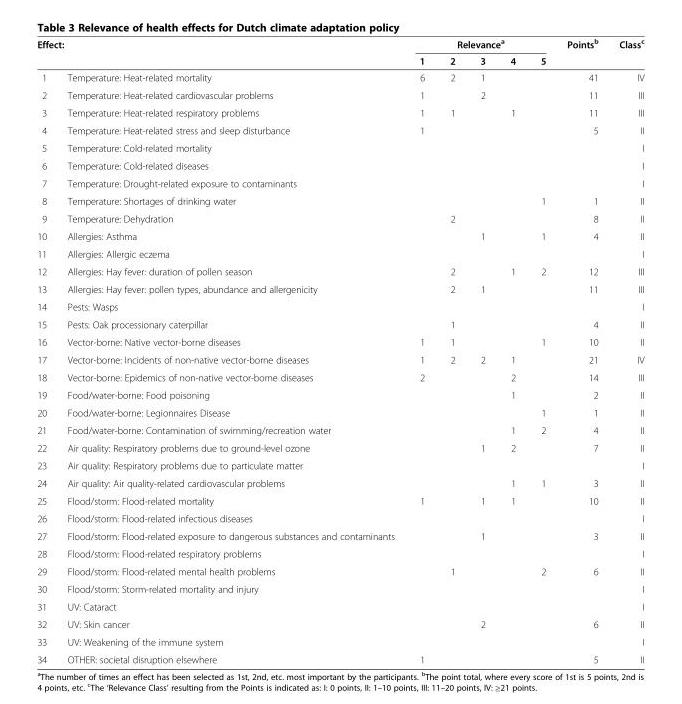table: (36, 36, 643, 664)
table column: (56, 36, 406, 664), (555, 36, 608, 664), (608, 36, 643, 664), (466, 36, 497, 664), (406, 36, 436, 664), (436, 36, 466, 664), (497, 36, 527, 664), (527, 36, 555, 664), (36, 36, 56, 664)
table column header: (36, 36, 643, 68)
table row: (36, 68, 643, 86), (36, 103, 643, 121), (36, 138, 643, 156), (36, 156, 643, 174), (36, 191, 643, 209), (36, 209, 643, 227), (36, 244, 643, 262), (36, 262, 643, 280), (36, 297, 643, 315), (36, 332, 643, 350), (36, 350, 643, 368), (36, 385, 643, 403), (36, 403, 643, 421), (36, 438, 643, 456), (36, 456, 643, 474), (36, 491, 643, 509), (36, 509, 643, 527), (36, 544, 643, 562), (36, 579, 643, 597), (36, 597, 643, 615), (36, 632, 643, 650), (36, 86, 643, 103), (36, 121, 643, 138), (36, 174, 643, 191), (36, 227, 643, 244), (36, 280, 643, 297), (36, 315, 643, 332), (36, 368, 643, 385), (36, 421, 643, 438), (36, 474, 643, 491), (36, 527, 643, 544), (36, 562, 643, 579), (36, 615, 643, 632), (36, 36, 643, 52), (36, 52, 643, 68), (36, 650, 643, 664)
table spanning cell: (36, 36, 406, 52), (406, 36, 555, 52), (555, 36, 608, 68), (608, 36, 643, 68)
